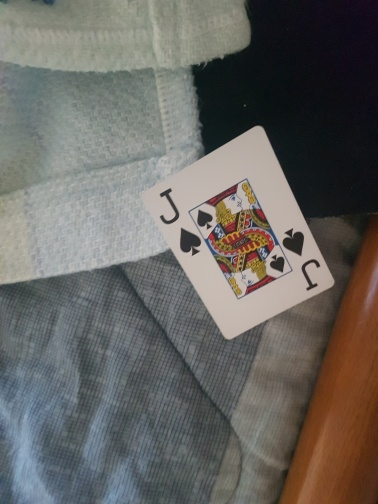jack: (142, 125, 336, 341)
